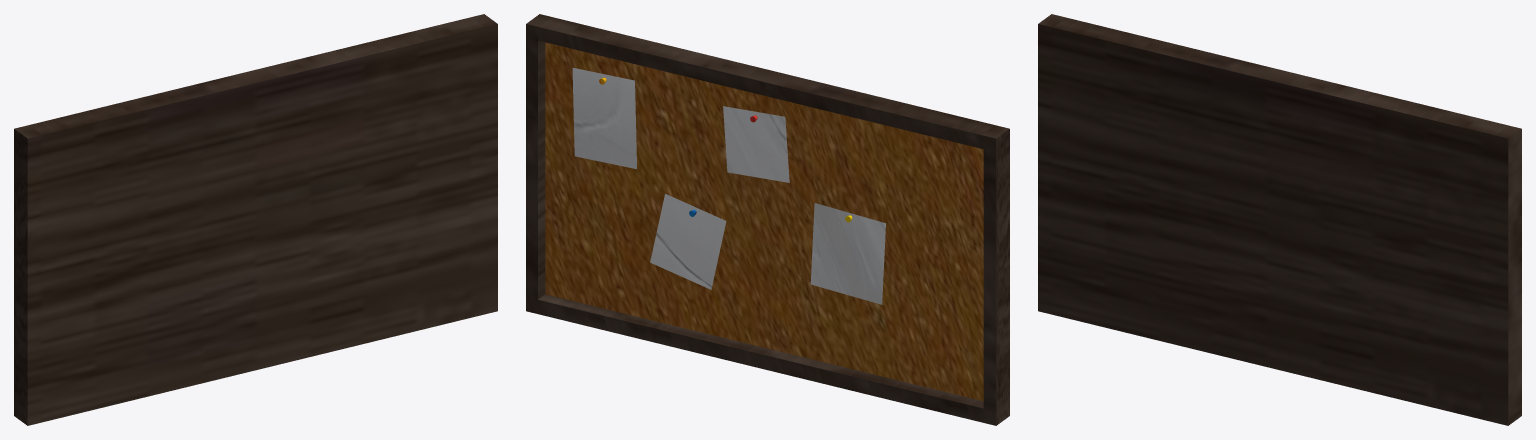
File: CorkBoard.glb
3 views of the same model, side by side, from view 1: azimuth 30°, elevation 25°; view 2: azimuth 150°, elevation 25°; view 3: azimuth 330°, elevation 25° (orthographic).
Parts seen in each view (by area): view 1: Corkboard; view 2: Corkboard; view 3: Corkboard.
Part boxes in pixels (left/top/right/bottom): Corkboard: left=14, top=14, right=497, bottom=425; Corkboard: left=526, top=14, right=1009, bottom=425; Corkboard: left=1038, top=14, right=1521, bottom=425.
Bounding box in the file's own units: 3.88 × 2.26 × 0.2067.
Materials: 7 (7 with a texture image).
